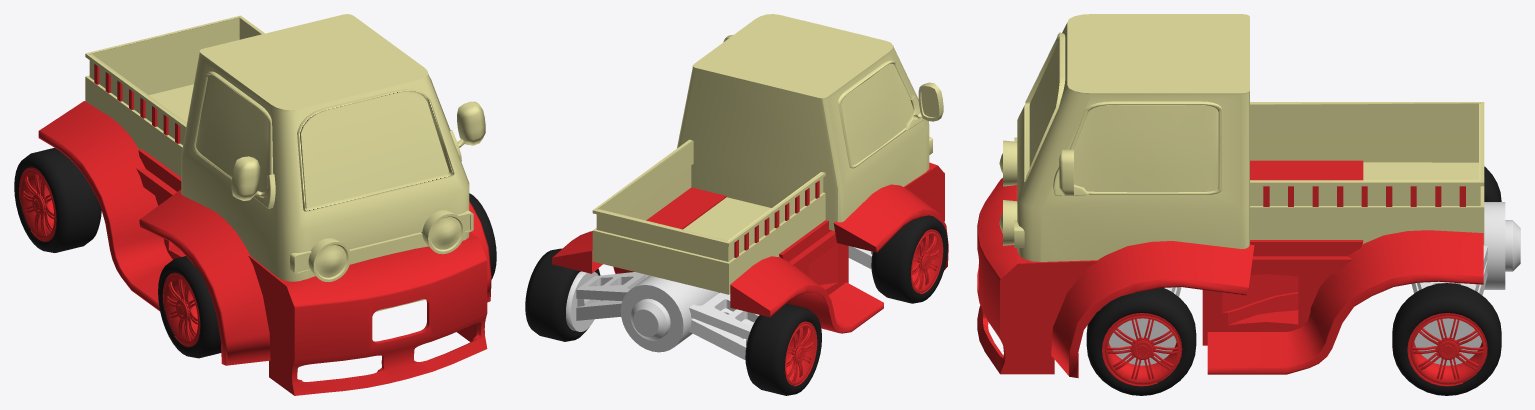
The model's file is Car_chassis.fbx.
3 renders of one model, left to right at view 1: azimuth 30°, elevation 25°; view 2: azimuth 150°, elevation 25°; view 3: azimuth 270°, elevation 25°, orthographic. The views are drawn at different scales.
Parts seen in each view (by area): view 1: Drive_Train, Wheel_1, Wheel_3, Wheel_4; view 2: Drive_Train, Wheel_1, Wheel_3, Wheel_2, Wheel_Bearing_2, Wheel_Bearing_1, Wheel_Bearing_3; view 3: Drive_Train, Wheel_2, Wheel_4, Wheel_Bearing_2, Wheel_Bearing_4.
Part boxes in pixels (box(x1,y1,x2,y2)): Drive_Train: box(38, 14, 491, 395); Wheel_1: box(14, 148, 101, 252); Wheel_3: box(158, 256, 221, 358); Wheel_4: box(469, 193, 496, 278); Drive_Train: box(552, 14, 948, 352); Wheel_1: box(745, 303, 821, 395); Wheel_3: box(871, 215, 947, 303); Wheel_2: box(525, 248, 600, 341); Wheel_Bearing_2: box(566, 271, 649, 331); Wheel_Bearing_1: box(689, 292, 759, 360); Wheel_Bearing_3: box(848, 246, 872, 269); Drive_Train: box(977, 14, 1520, 378); Wheel_2: box(1392, 283, 1501, 395); Wheel_4: box(1086, 288, 1196, 395); Wheel_Bearing_2: box(1411, 246, 1487, 365); Wheel_Bearing_4: box(1109, 287, 1181, 365).
Size of the model in its own units: 311 by 259 by 467.
